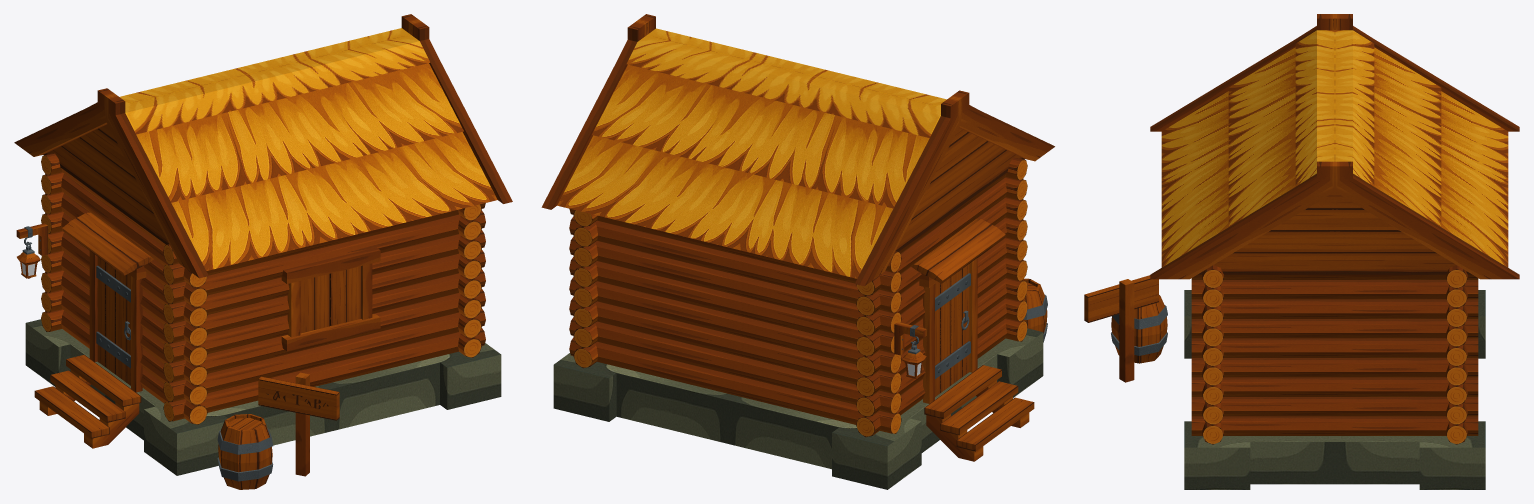
File: House.fbx
The picture shows the model from 3 angles, left to right: view 1: azimuth 30°, elevation 25°; view 2: azimuth 150°, elevation 25°; view 3: azimuth 270°, elevation 25°; orthographic projection. The views are drawn at different scales.
Visible parts, largest first — view 1: 1_house, 5_barrel, 2_door, 6_sign, 3_window; view 2: 1_house, 2_door, 5_barrel; view 3: 1_house, 6_sign, 5_barrel.
Part boxes in pixels (box(x1,y1,x2,y2)): 1_house: box(14, 14, 512, 475); 5_barrel: box(217, 414, 273, 489); 2_door: box(96, 257, 130, 385); 6_sign: box(258, 372, 339, 476); 3_window: box(300, 266, 361, 333); 1_house: box(541, 14, 1054, 489); 2_door: box(935, 264, 970, 396); 5_barrel: box(1023, 278, 1047, 342); 1_house: box(1150, 14, 1519, 489); 6_sign: box(1084, 275, 1158, 382); 5_barrel: box(1111, 295, 1167, 363).
Size of the model in its own units: 581 by 494 by 607.
